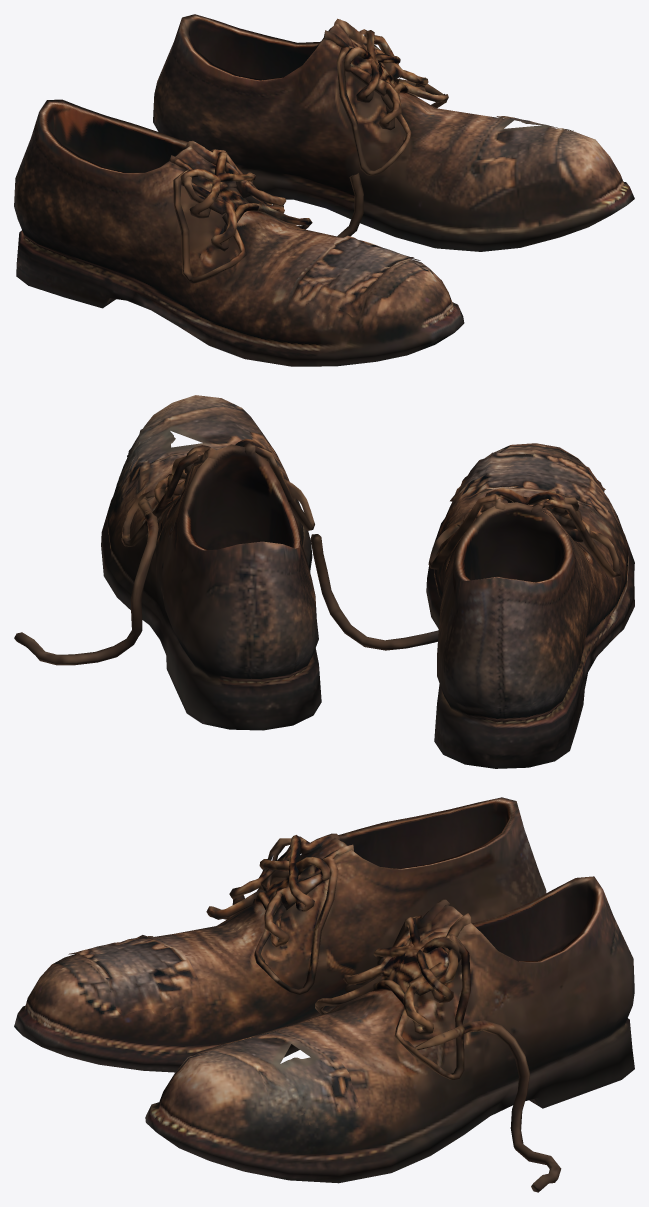
The model's file is act1_kit_v1_worn_shoes.glb.
The picture shows the model from 3 angles, top to bottom: view 1: azimuth 30°, elevation 25°; view 2: azimuth 150°, elevation 25°; view 3: azimuth 270°, elevation 25°; orthographic projection. The views are drawn at different scales.
Parts seen in each view (by area): view 1: act1_kit_v1_worn_shoes; view 2: act1_kit_v1_worn_shoes; view 3: act1_kit_v1_worn_shoes.
Boxes of the visible parts, x1,y1,x2,y2 form: act1_kit_v1_worn_shoes: [14, 14, 634, 366]; act1_kit_v1_worn_shoes: [14, 395, 634, 768]; act1_kit_v1_worn_shoes: [14, 797, 634, 1192].
Size of the model in its own units: 1 by 0.3744 by 0.9817.
Materials: 1 (1 with a texture image).
